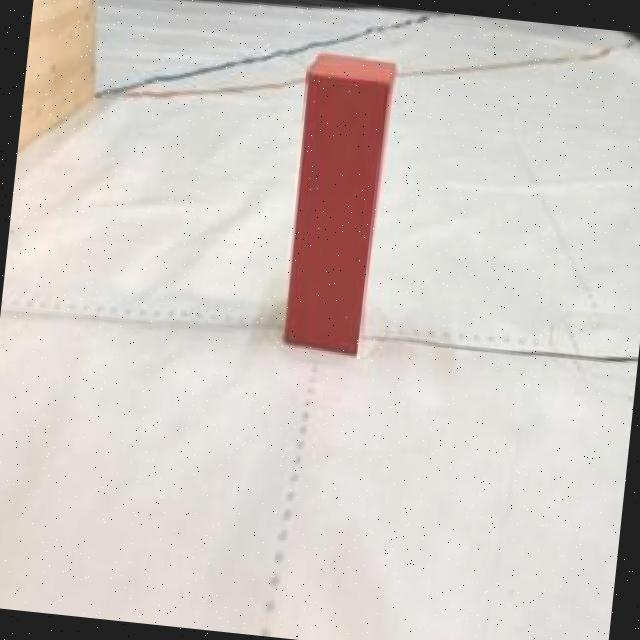redbox: (276, 54, 395, 358)
